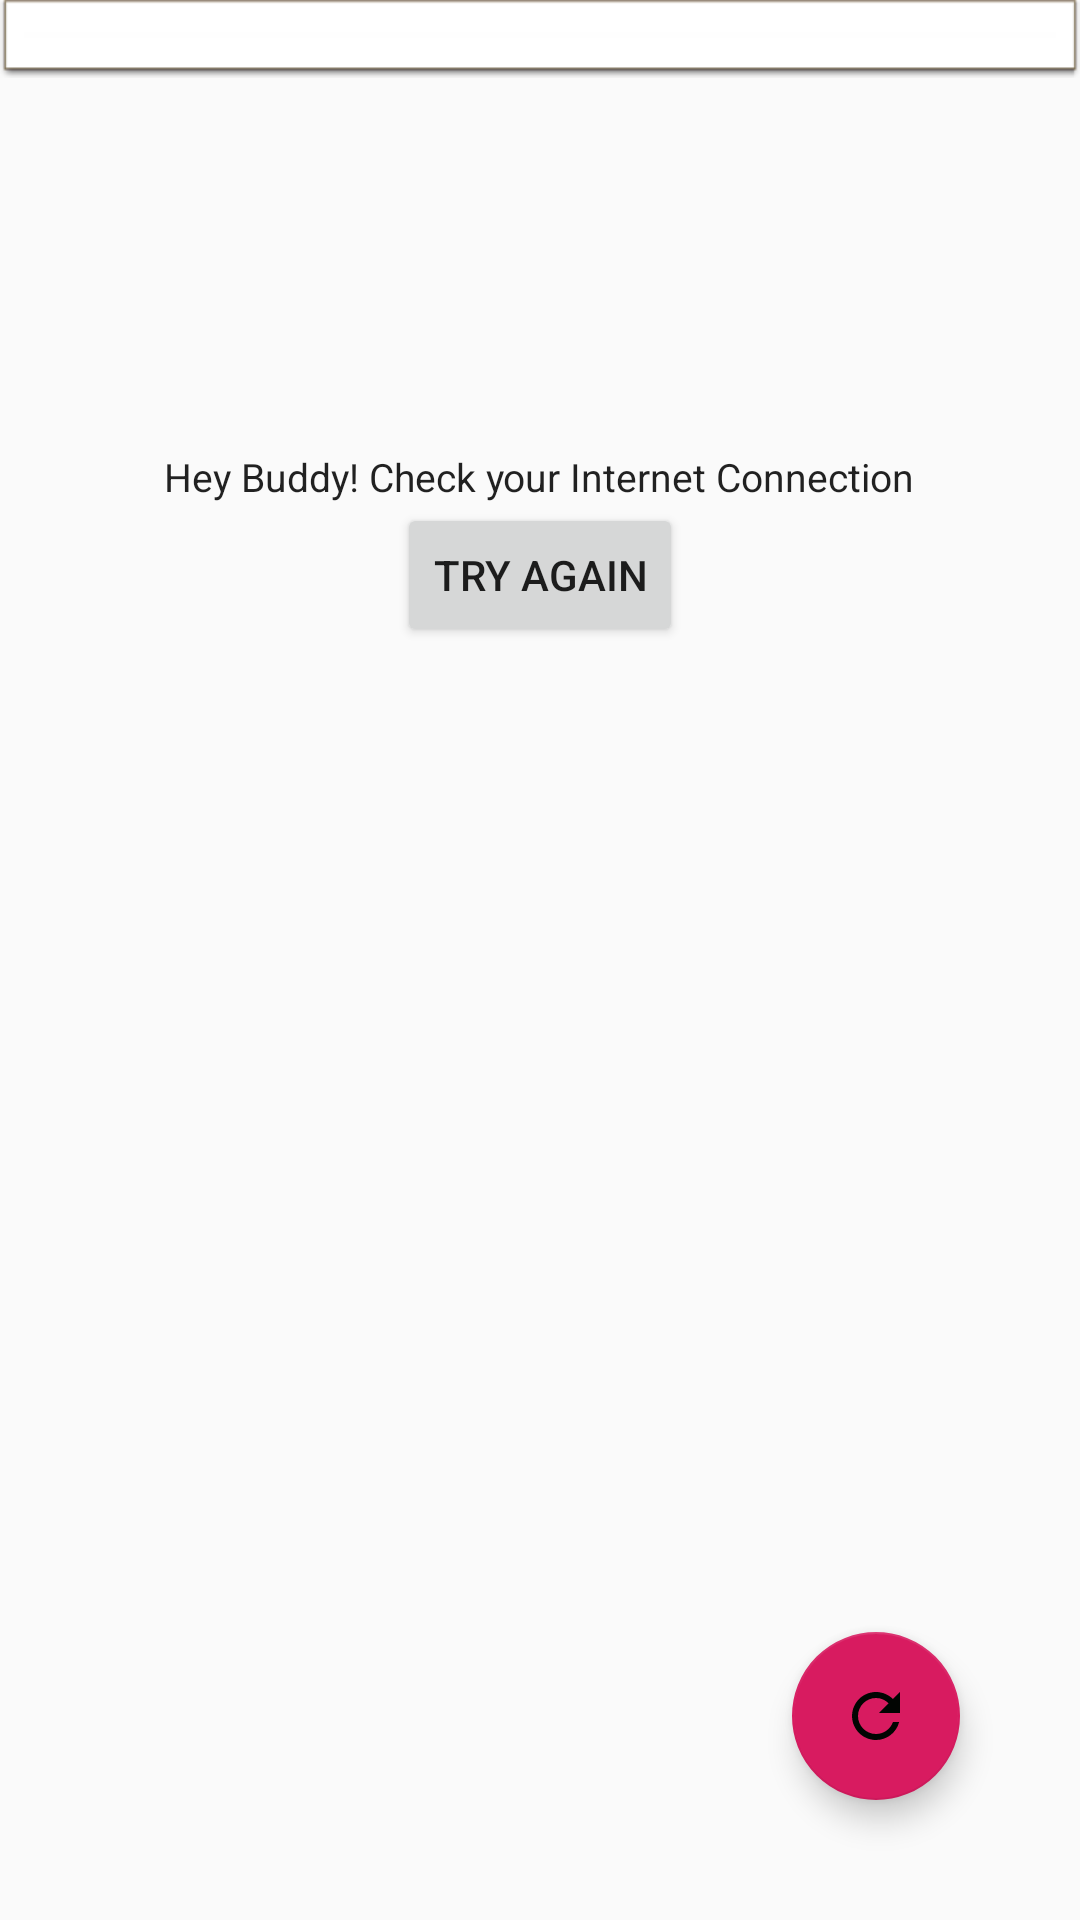

Named icons in this screenshot (1080px×1920px) and their bounding boxes, (x1, y1, x2, y2):
refresh: (792, 1632, 960, 1800)
